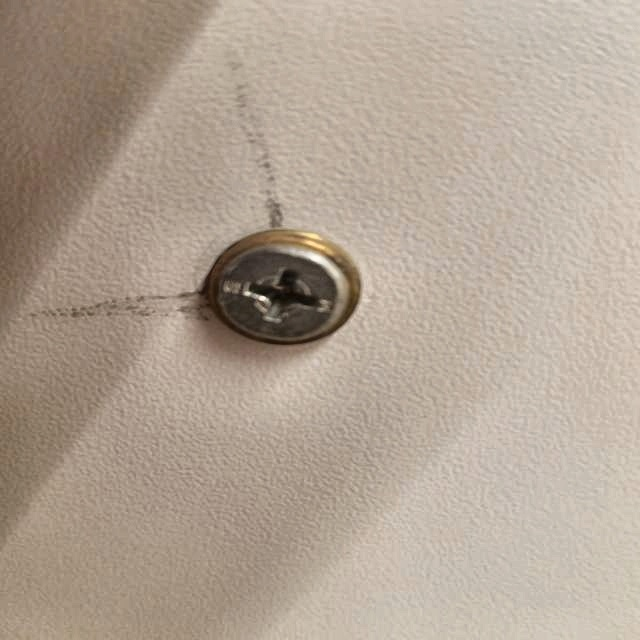phillips: (217, 243, 350, 345)
